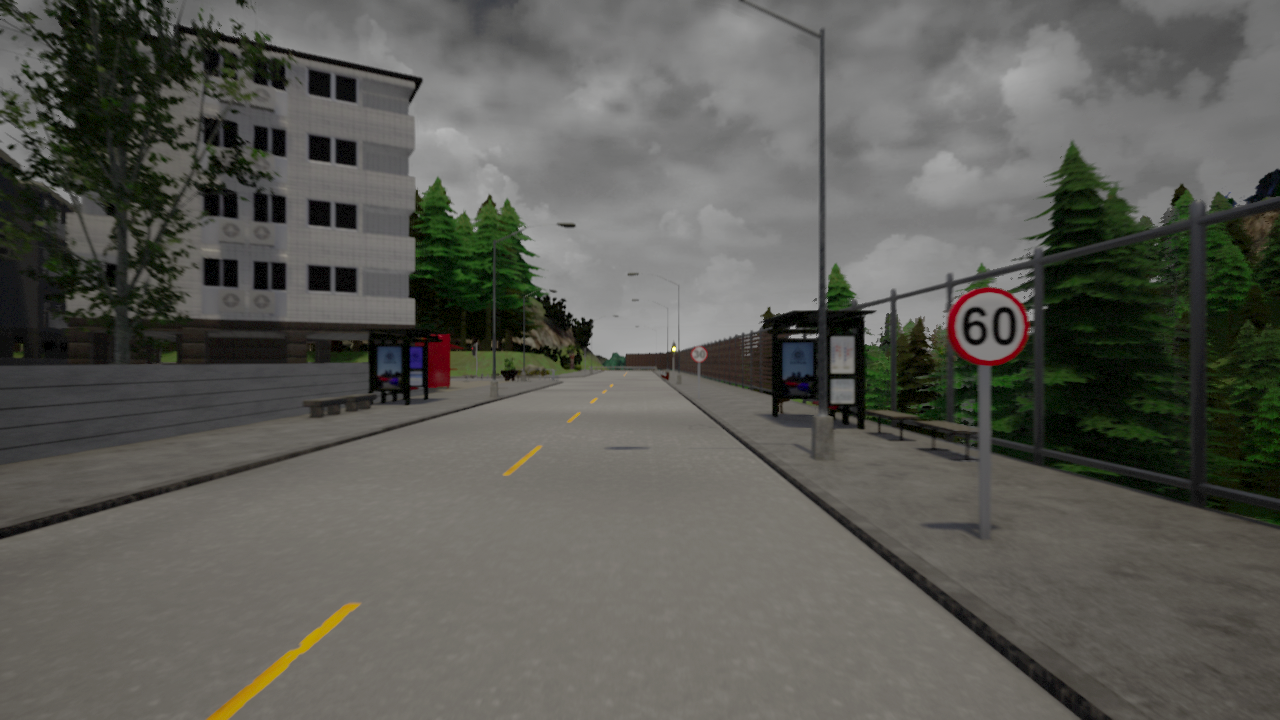yellow: (670, 342, 677, 356)
